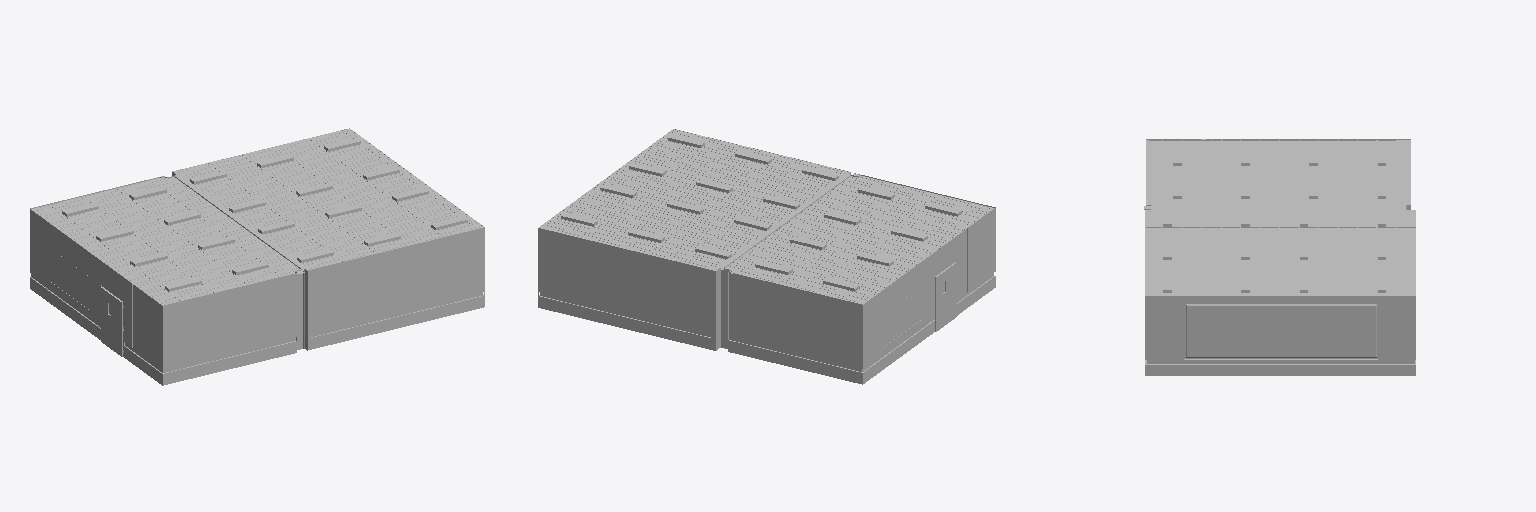
The model's file is Alf's Room.obj.
3 renders of one model, left to right at view 1: azimuth 30°, elevation 25°; view 2: azimuth 150°, elevation 25°; view 3: azimuth 270°, elevation 25°, orthographic.
Visible parts, largest first — view 1: mesh 11 Boss-Extrude40, mesh 2 LPattern16, mesh 1 Alf, mesh 13 Boss-Extrude42, mesh 9 Boss-Extrude12, mesh 6 Boss-Extrude1, mesh 8 Cut-Extrude1, mesh 3 Surface-Plane2 face, mesh 5 Boss-Extrude3, mesh 14 DeleteFace31[3] face; view 2: mesh 11 Boss-Extrude40, mesh 2 LPattern16, mesh 1 Alf, mesh 9 Boss-Extrude12, mesh 13 Boss-Extrude42, mesh 6 Boss-Extrude1, mesh 8 Cut-Extrude1, mesh 3 Surface-Plane2 face, mesh 5 Boss-Extrude3; view 3: mesh 2 LPattern16, mesh 15 Boss-Extrude29, mesh 11 Boss-Extrude40, mesh 1 Alf, mesh 9 Boss-Extrude12, mesh 13 Boss-Extrude42, mesh 6 Boss-Extrude1, mesh 8 Cut-Extrude1.
Boxes of the visible parts, <box> form: mesh 11 Boss-Extrude40: <box>30,129,484,385</box>; mesh 2 LPattern16: <box>32,129,482,304</box>; mesh 1 Alf: <box>31,177,302,305</box>; mesh 13 Boss-Extrude42: <box>171,128,483,271</box>; mesh 9 Boss-Extrude12: <box>64,138,467,288</box>; mesh 6 Boss-Extrude1: <box>31,176,483,373</box>; mesh 8 Cut-Extrude1: <box>62,141,467,290</box>; mesh 3 Surface-Plane2 face: <box>49,132,481,315</box>; mesh 5 Boss-Extrude3: <box>101,285,123,356</box>; mesh 14 DeleteFace31[3] face: <box>168,176,303,349</box>; mesh 11 Boss-Extrude40: <box>538,175,995,384</box>; mesh 2 LPattern16: <box>540,129,992,304</box>; mesh 1 Alf: <box>724,175,993,303</box>; mesh 9 Boss-Extrude12: <box>561,134,960,287</box>; mesh 13 Boss-Extrude42: <box>539,129,850,271</box>; mesh 6 Boss-Extrude1: <box>539,152,994,372</box>; mesh 8 Cut-Extrude1: <box>561,137,961,291</box>; mesh 3 Surface-Plane2 face: <box>542,132,961,347</box>; mesh 5 Boss-Extrude3: <box>934,261,956,331</box>; mesh 2 LPattern16: <box>1144,141,1415,295</box>; mesh 15 Boss-Extrude29: <box>1184,304,1377,359</box>; mesh 11 Boss-Extrude40: <box>1145,139,1415,375</box>; mesh 1 Alf: <box>1146,140,1410,208</box>; mesh 9 Boss-Extrude12: <box>1163,147,1385,289</box>; mesh 13 Boss-Extrude42: <box>1145,208,1415,295</box>; mesh 6 Boss-Extrude1: <box>1145,139,1415,364</box>; mesh 8 Cut-Extrude1: <box>1163,147,1385,292</box>.
Size of the model in its own units: 11.55 by 2.83 by 8.41.